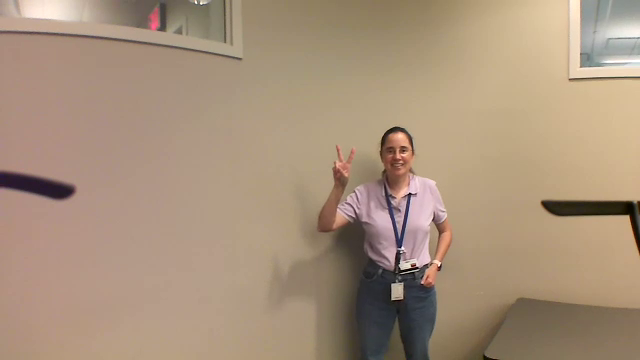peace: (328, 144, 357, 183)
